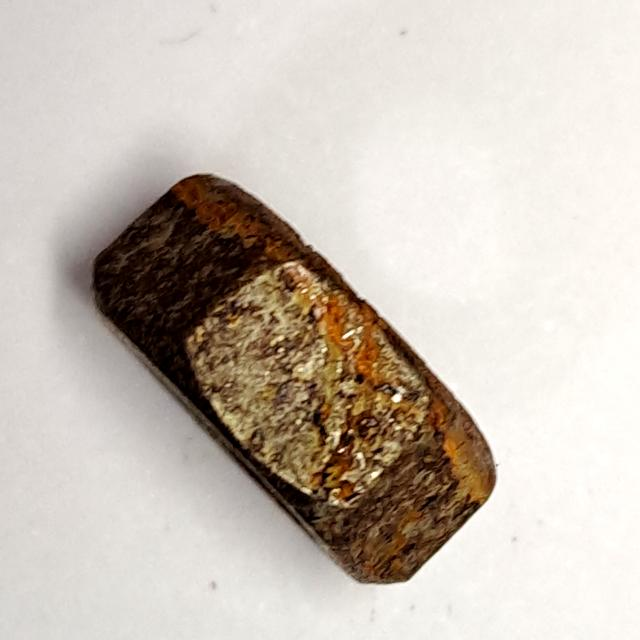Side_Rust: (83, 156, 509, 600)
